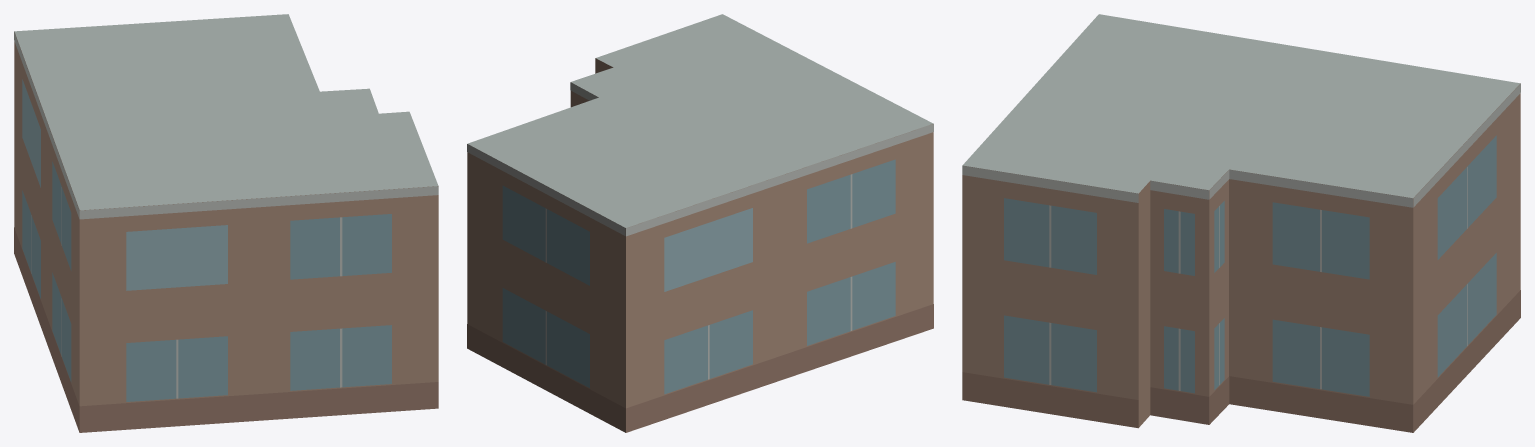
File: survey-upis-32680010.glb
The picture shows the model from 3 angles, left to right: view 1: azimuth 30°, elevation 25°; view 2: azimuth 150°, elevation 25°; view 3: azimuth 270°, elevation 25°; orthographic projection. The views are drawn at different scales.
Visible parts, largest first — view 1: survey-upis-32680010.tmp; view 2: survey-upis-32680010.tmp; view 3: survey-upis-32680010.tmp.
Boxes of the visible parts, x1,y1,x2,y2 form: survey-upis-32680010.tmp: (14, 14, 438, 432); survey-upis-32680010.tmp: (467, 14, 933, 432); survey-upis-32680010.tmp: (962, 14, 1520, 432).
Bounding box in the file's own units: 9.27 × 5.5 × 11.87.
